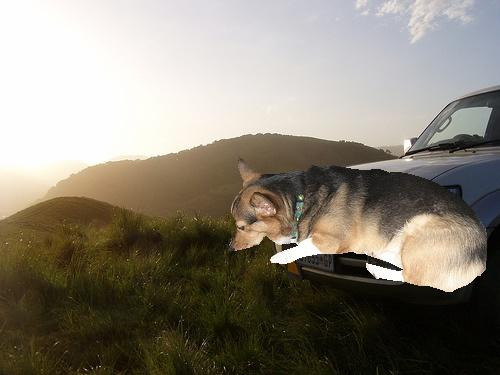tampered: (229, 157, 487, 292)
